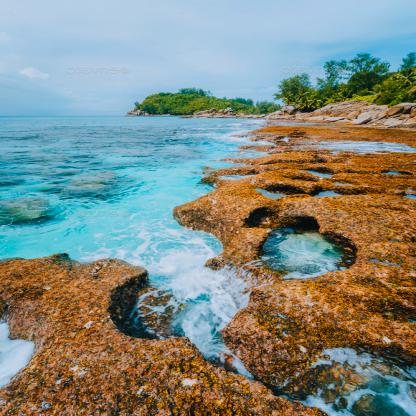Igneous_Granite: (0, 252, 156, 350), (19, 360, 269, 416), (186, 180, 292, 260), (274, 317, 390, 358), (348, 205, 402, 278), (323, 143, 381, 189), (247, 278, 306, 322)
